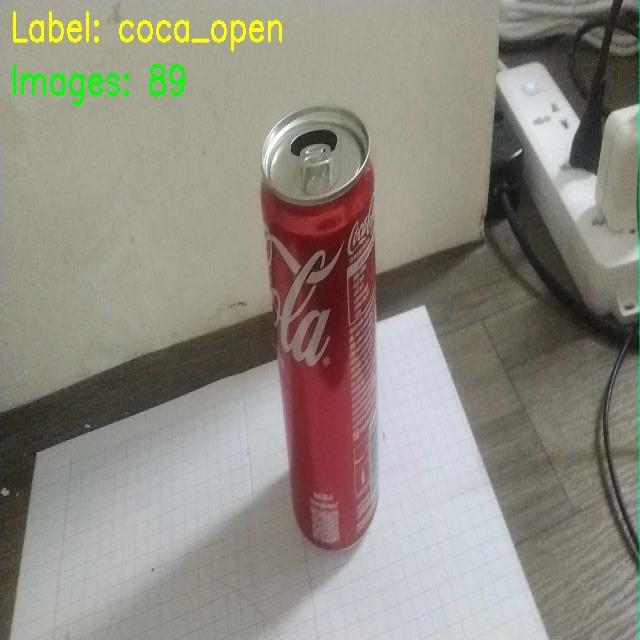Coca_open: (256, 94, 414, 558)
